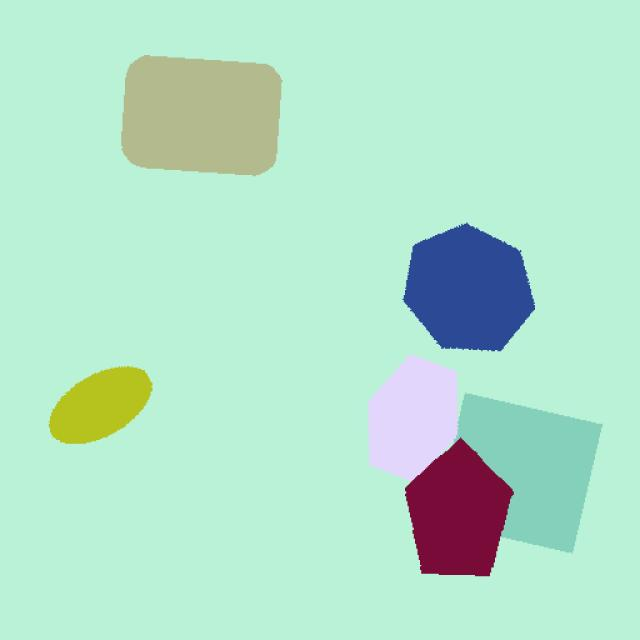Heptagon: (382, 200, 551, 357)
Hexagon: (358, 339, 467, 482)
Oval: (44, 360, 157, 450)
Pentagon: (402, 436, 520, 590)
Rectangle: (103, 40, 297, 189)
square: (434, 385, 606, 553)
